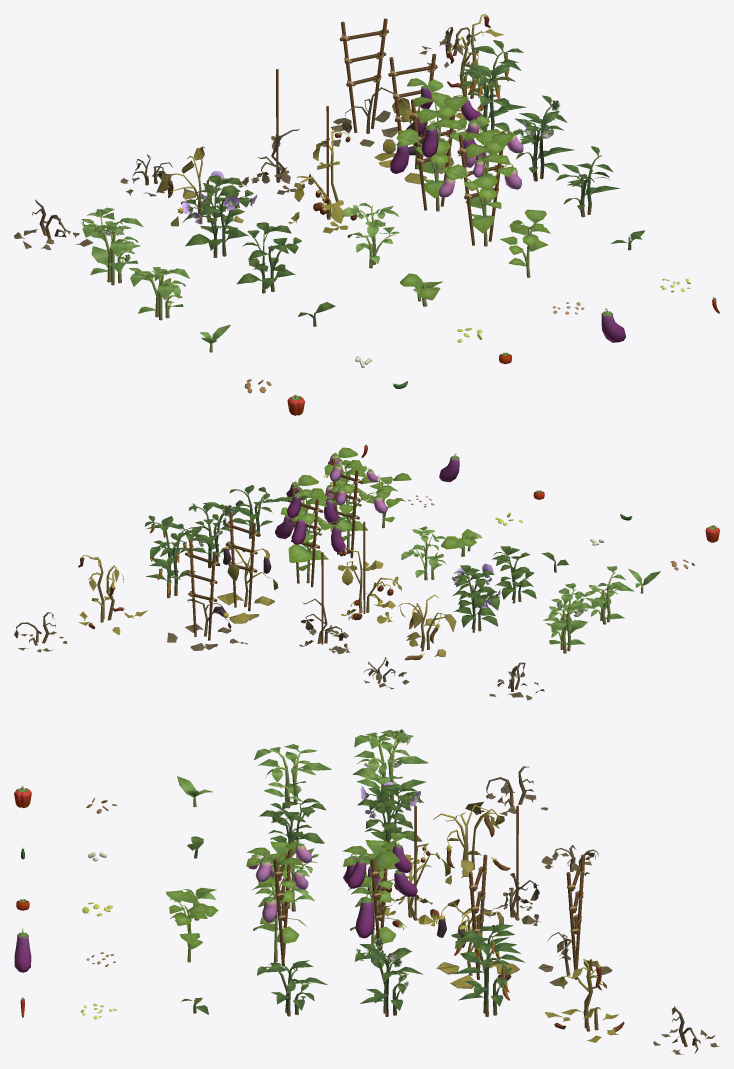
File: crop cycle 1.fbx
3 views of the same model, one above another, from view 1: azimuth 30°, elevation 25°; view 2: azimuth 150°, elevation 25°; view 3: azimuth 270°, elevation 25° (orthographic). The views are drawn at different scales.
Parts seen in each view (by area): view 1: model_1.034, model_1.026, model_1.022, model_1.032, model_1.003, model_1.025, model_1.033, model_1.030, model_1.004, model_1.021, model_1.024, model_1.011 (+6 smaller); view 2: model_1.034, model_1.026, model_1.033, model_1.022, model_1.003, model_1.030, model_1.025, model_1.032, model_1.004, model_1.028, model_1.021, model_1.002 (+8 smaller); view 3: model_1.034, model_1.026, model_1.003, model_1.033, model_1.025, model_1.022, model_1.004, model_1.032, model_1.024, model_1.028, model_1.030, model_1.021 (+8 smaller).
Part boxes in pixels (<box>): model_1.034: <box>390,78,485,211</box>; model_1.026: <box>438,115,523,246</box>; model_1.022: <box>181,171,257,257</box>; model_1.032: <box>321,18,398,146</box>; model_1.003: <box>458,40,526,132</box>; model_1.025: <box>80,207,143,285</box>; model_1.033: <box>374,53,453,184</box>; model_1.030: <box>288,106,357,233</box>; model_1.004: <box>513,95,574,181</box>; model_1.021: <box>237,222,301,293</box>; model_1.024: <box>129,267,189,320</box>; model_1.011: <box>500,209,550,277</box>; model_1.034: <box>275,475,349,587</box>; model_1.026: <box>324,447,388,558</box>; model_1.033: <box>213,511,278,623</box>; model_1.022: <box>451,563,500,632</box>; model_1.003: <box>145,515,200,598</box>; model_1.030: <box>338,521,401,623</box>; model_1.025: <box>543,583,594,653</box>; model_1.032: <box>167,541,247,650</box>; model_1.004: <box>188,502,239,568</box>; model_1.028: <box>398,594,456,660</box>; model_1.021: <box>491,546,536,603</box>; model_1.002: <box>78,555,147,635</box>; model_1.034: <box>342,832,417,962</box>; model_1.026: <box>246,840,311,966</box>; model_1.003: <box>451,924,525,1016</box>; model_1.033: <box>436,854,519,988</box>; model_1.025: <box>352,729,428,799</box>; model_1.022: <box>357,782,423,851</box>; model_1.004: <box>354,938,423,1016</box>; model_1.032: <box>538,854,612,990</box>; model_1.024: <box>254,744,331,808</box>; model_1.028: <box>433,801,510,884</box>; model_1.030: <box>377,805,450,929</box>; model_1.021: <box>259,798,326,857</box>.
Bounding box in the file's own units: 4950 × 1122 × 5519.
